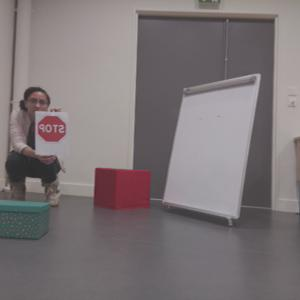stop: (37, 115, 67, 143)
